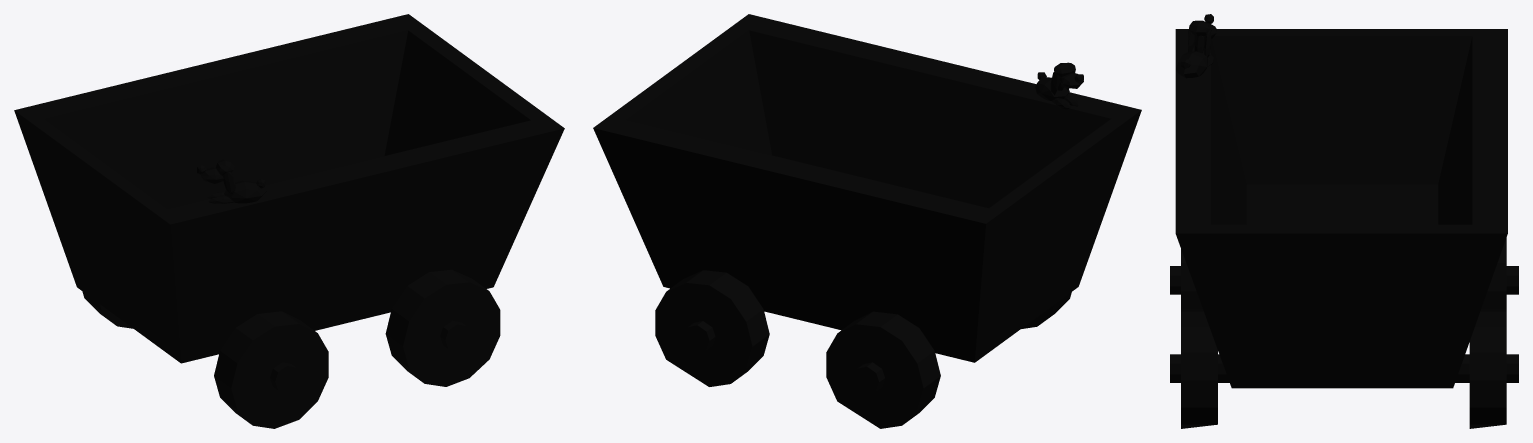
The model's file is Miner2.glb.
3 renders of one model, left to right at view 1: azimuth 30°, elevation 25°; view 2: azimuth 150°, elevation 25°; view 3: azimuth 270°, elevation 25°, orthographic. The views are drawn at different scales.
Parts seen in each view (by area): view 1: Miner2; view 2: Miner2; view 3: Miner2.
Boxes of the visible parts, x1=… form: Miner2: x1=14, y1=14, x2=564, y2=428; Miner2: x1=593, y1=14, x2=1141, y2=428; Miner2: x1=1170, y1=14, x2=1518, y2=428.
Size of the model in its own units: 263 by 173 by 189.
Materials: 1 (1 with a texture image).
